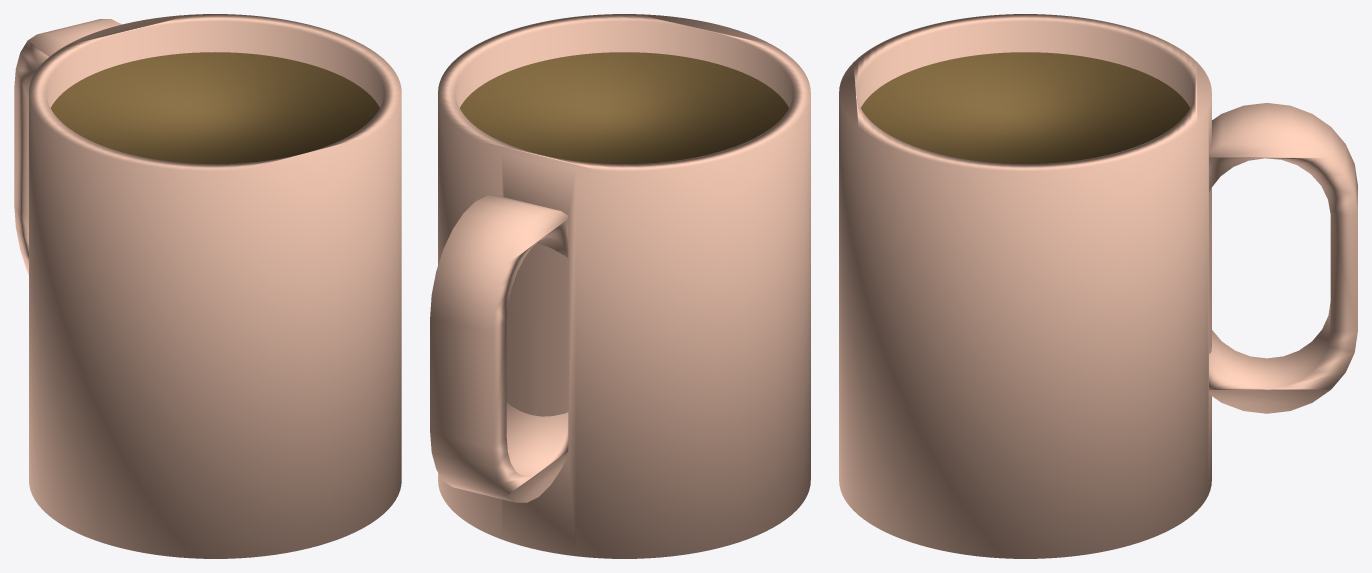
3 renders of one model, left to right at view 1: azimuth 30°, elevation 25°; view 2: azimuth 150°, elevation 25°; view 3: azimuth 270°, elevation 25°, orthographic.
Parts seen in each view (by area): view 1: mesh2_mesh2-geometry, mesh2_mesh2-geometry_2, mesh1_mesh1-geometry; view 2: mesh2_mesh2-geometry, mesh1_mesh1-geometry, mesh2_mesh2-geometry_2; view 3: mesh2_mesh2-geometry, mesh2_mesh2-geometry_2, mesh1_mesh1-geometry.
Boxes of the visible parts, x1,y1,x2,y2 form: mesh2_mesh2-geometry: (29,14,401,558); mesh2_mesh2-geometry_2: (50,52,379,163); mesh1_mesh1-geometry: (14,19,121,274); mesh2_mesh2-geometry: (438,14,810,558); mesh1_mesh1-geometry: (430,195,568,502); mesh2_mesh2-geometry_2: (460,52,788,163); mesh2_mesh2-geometry: (839,14,1211,558); mesh2_mesh2-geometry_2: (861,52,1189,163); mesh1_mesh1-geometry: (1209,103,1357,413).
Bounding box in the file's own units: 0.3275 × 0.3755 × 0.4558.
